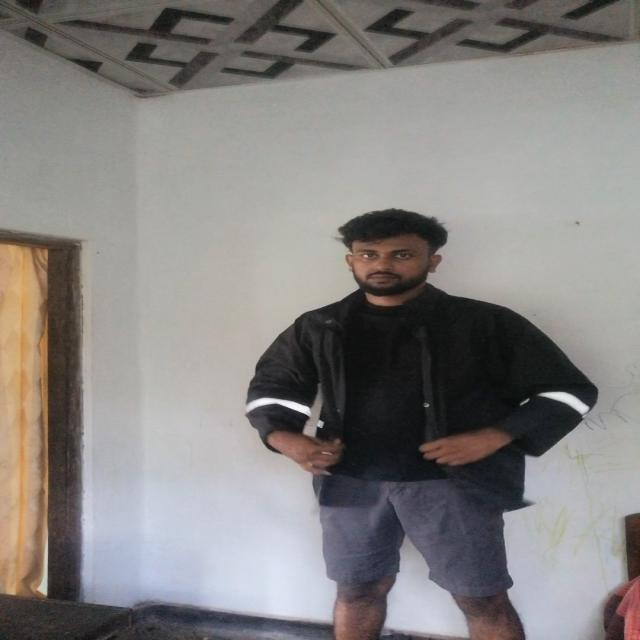Jacket_Wearer: (237, 277, 606, 500)
